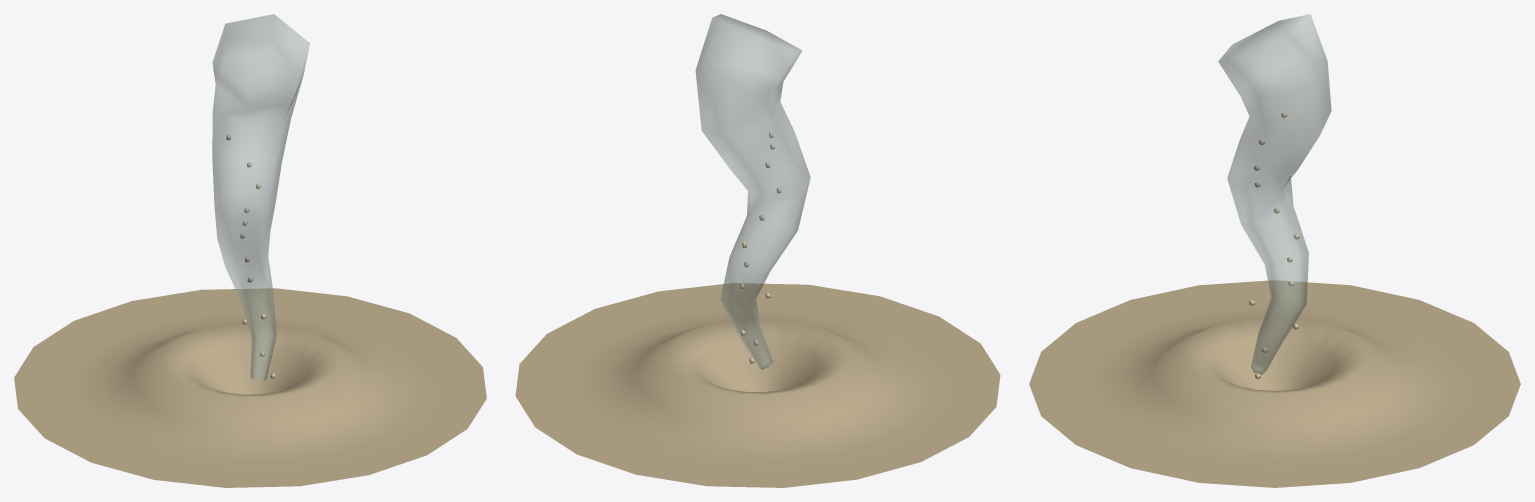
Rendered from lake-spring-shallows-0.glb.
3 renders of one model, left to right at view 1: azimuth 30°, elevation 25°; view 2: azimuth 150°, elevation 25°; view 3: azimuth 270°, elevation 25°, orthographic. The views are drawn at different scales.
Visible parts, largest first — view 1: lake-spring-shallows-0; view 2: lake-spring-shallows-0; view 3: lake-spring-shallows-0.
Part boxes in pixels (left/top/right/bottom): lake-spring-shallows-0: left=14, top=14, right=486, bottom=487; lake-spring-shallows-0: left=515, top=14, right=1000, bottom=487; lake-spring-shallows-0: left=1029, top=14, right=1520, bottom=487.
Bounding box in the file's own units: 0.6 × 0.5285 × 0.6.
